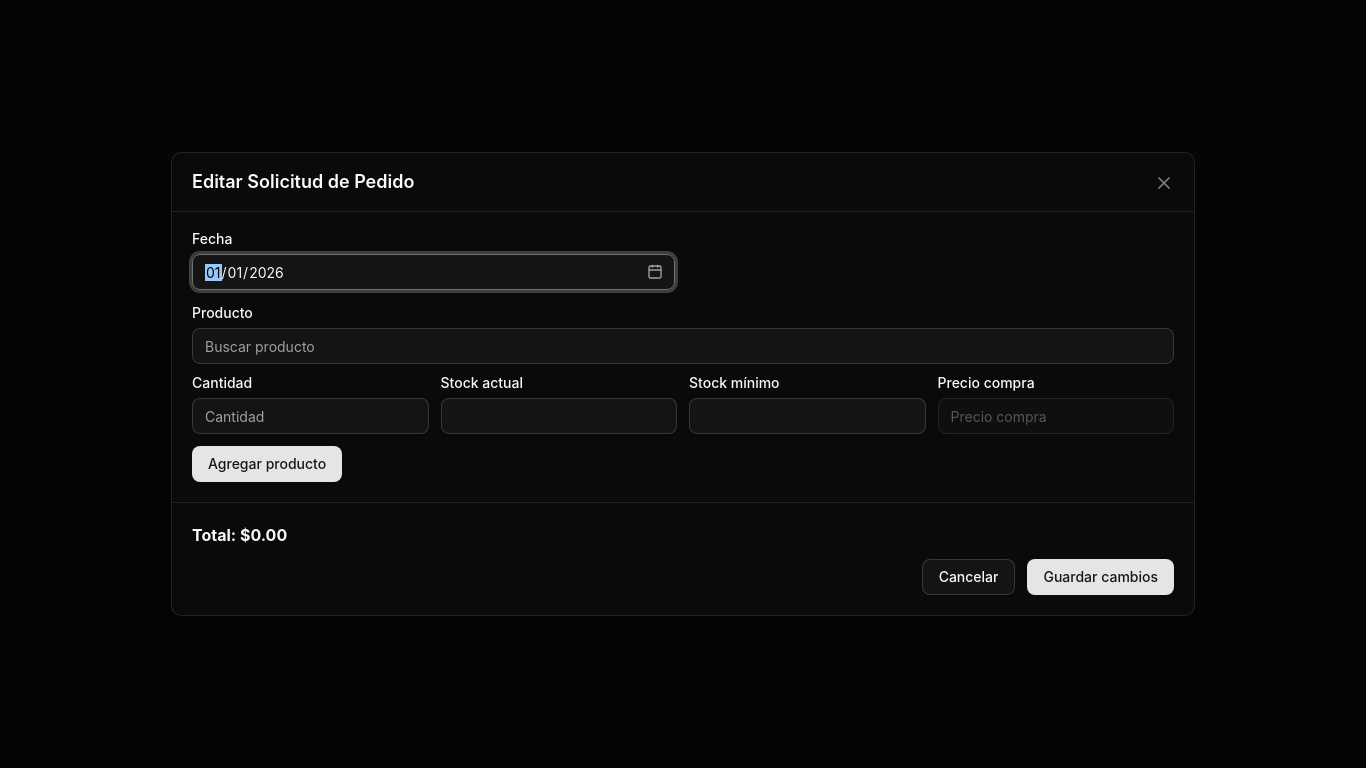
Test: ModalOrderRequest › filtra con includes, solo productos activos
The width and height of the screenshot is (1366, 768).
Click the dropdown labelled "Producto" at (683, 346), box top-left (192, 328), bottom-right (1174, 364)
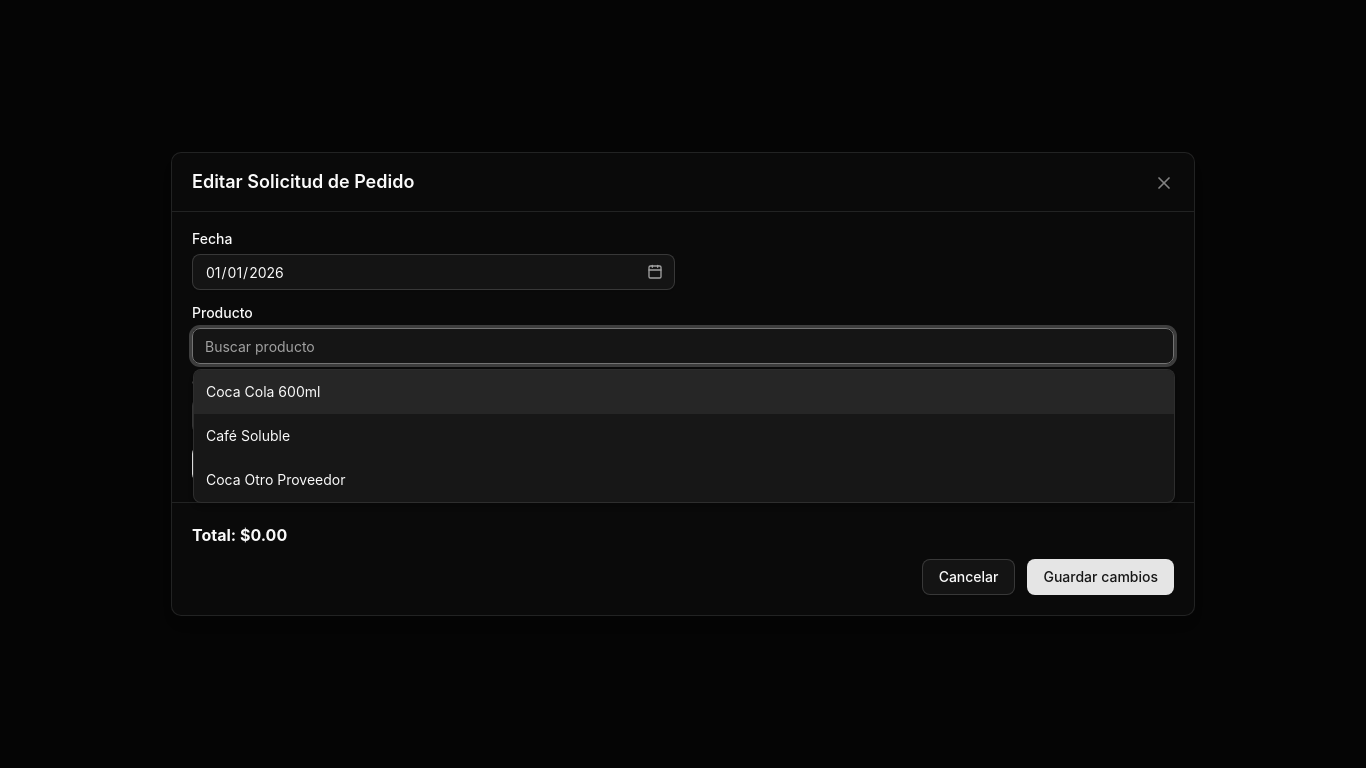
Check: the text "Coca Cola 600ml" is shown, box top-left (206, 383), bottom-right (320, 400)
Check: the text "Coca Otro Proveedor" is shown, box top-left (206, 471), bottom-right (346, 488)
Type "CAFE" into the dropdown labelled "Producto" at (683, 346), box top-left (192, 328), bottom-right (1174, 364)
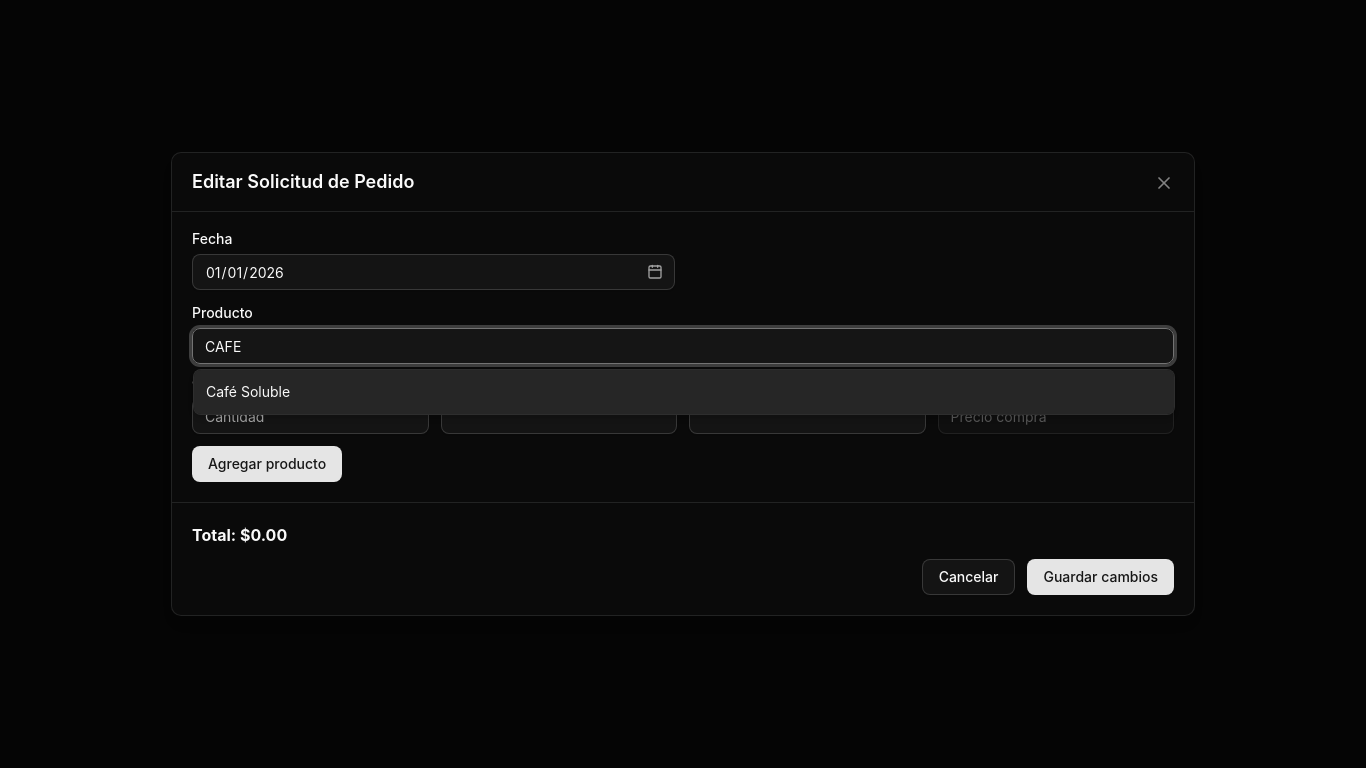
Check: the text "Café Soluble" is shown, box top-left (206, 383), bottom-right (290, 400)
Check: the option "Coca Cola 600ml" is gone
Replace the text in the dropdown labelled "Producto" with "zzz" at (683, 346), box top-left (192, 328), bottom-right (1174, 364)
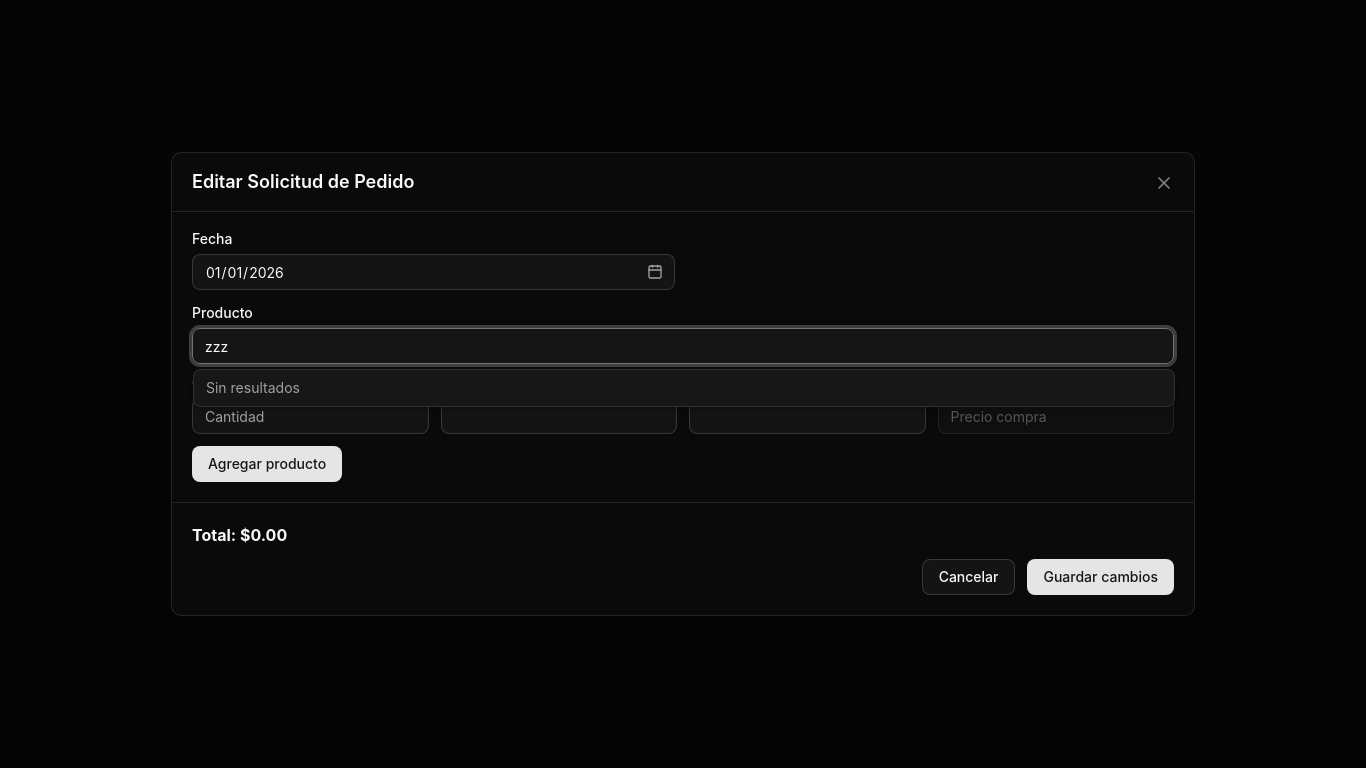
Check: the text "Sin resultados" is shown, box top-left (206, 379), bottom-right (300, 396)
